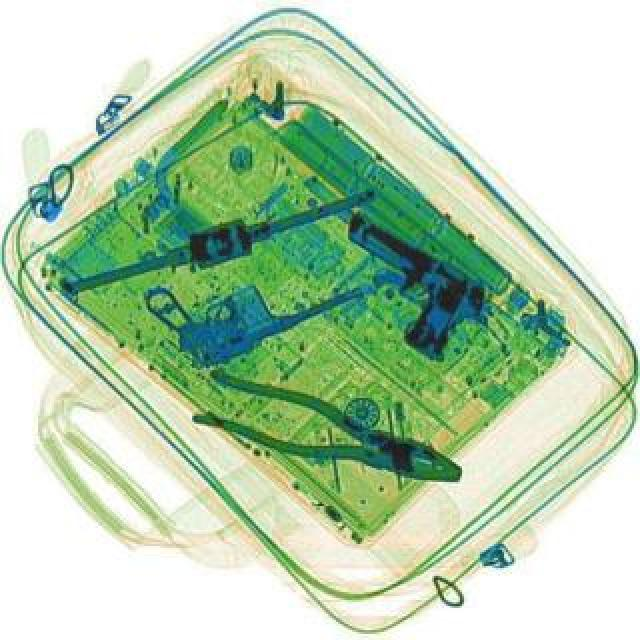gun: (140, 216, 370, 378), (302, 206, 506, 374)
wrench: (186, 362, 472, 502)
